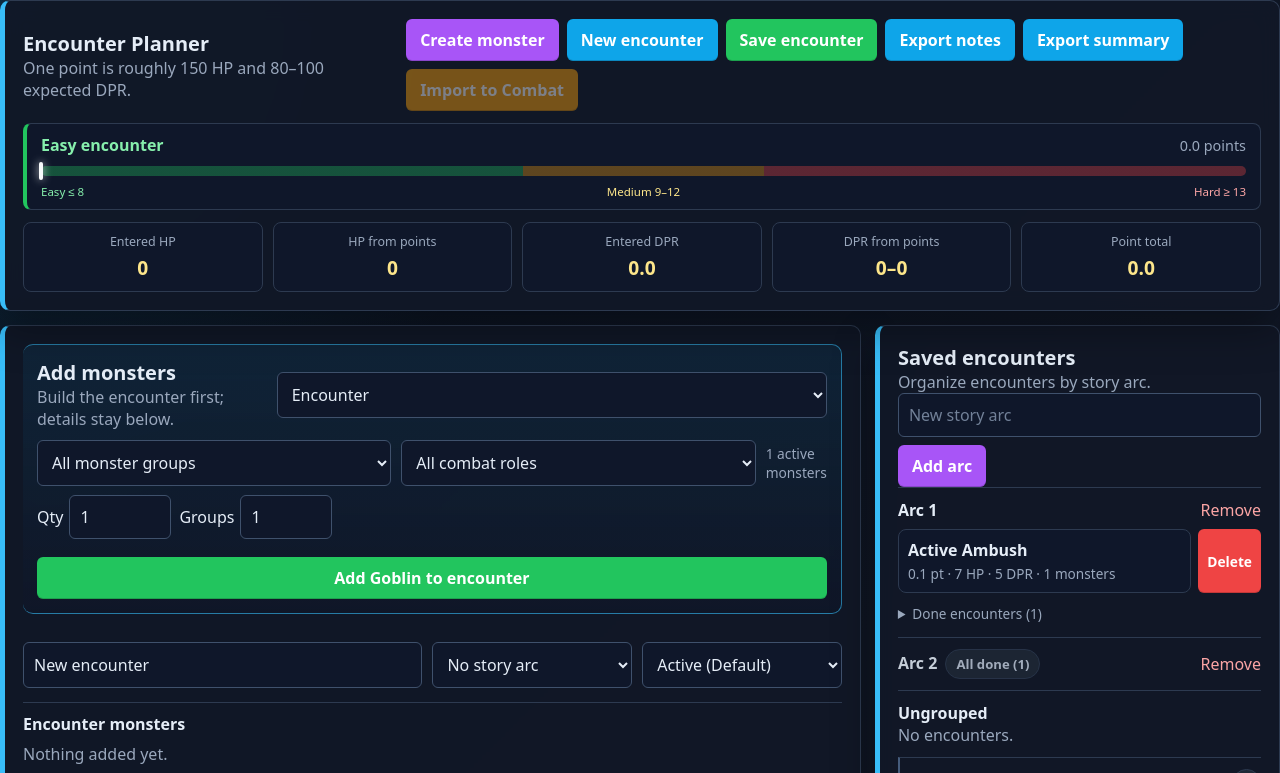
encounter planner › handles encounter states (active/done/unused), arc collapsing, unused arc, direct monster edit and hides done in combat loader
Later steps or results of the test are not shown.
Check: the heading "Done encounters (1)" is shown, box [912,604,1042,623]
Check: the text "All done (1)" is shown, box [945,649,1040,679]
Click the button "Active Ambush 0.1 pt · 7 HP · 5 DPR · 1 monsters": (1045, 561) [898,529,1191,593]
(page scrolled)
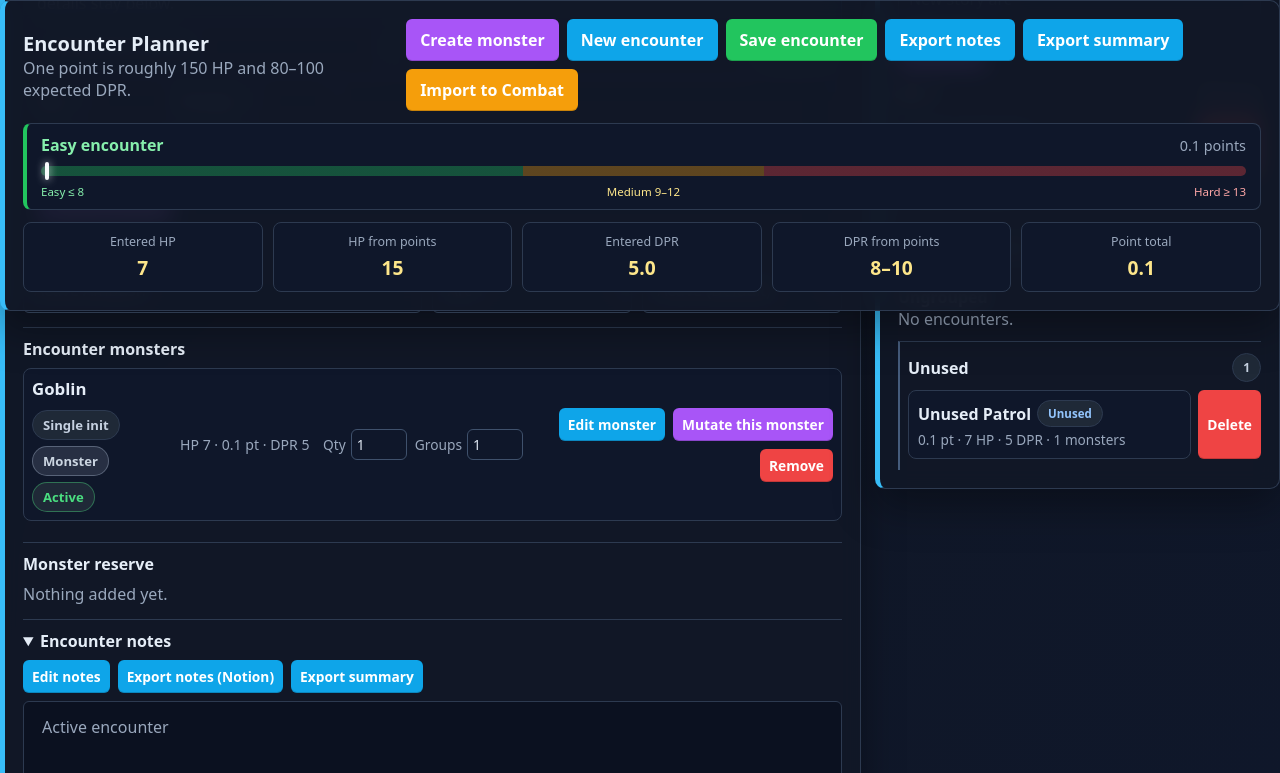
Check: the button "Edit monster" is shown, box [559,408,665,440]
